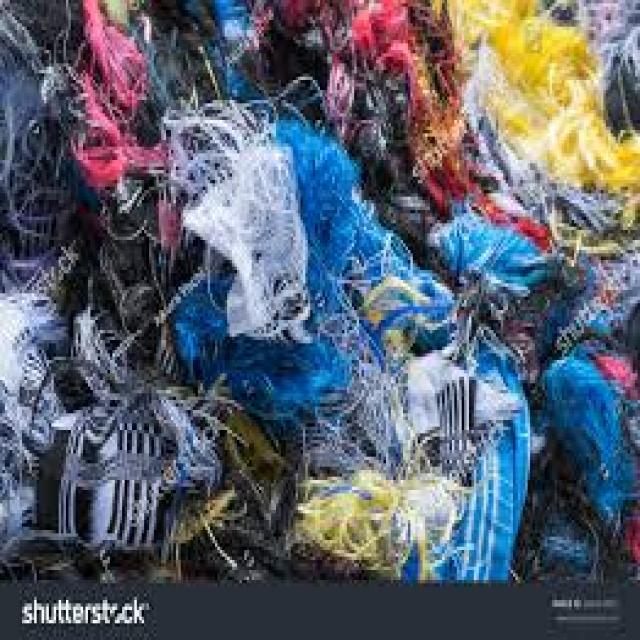Clothes -Biodegradable-: (0, 0, 640, 576)
